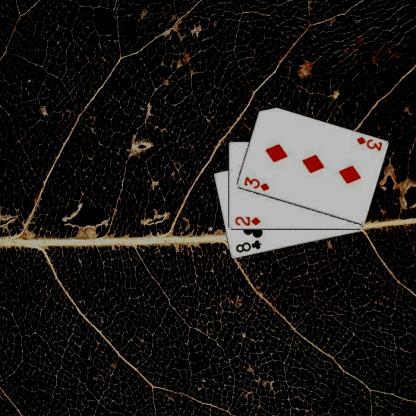2D: (232, 215, 261, 227)
3D: (242, 174, 271, 192), (354, 134, 383, 152)
8C: (233, 237, 262, 254)
